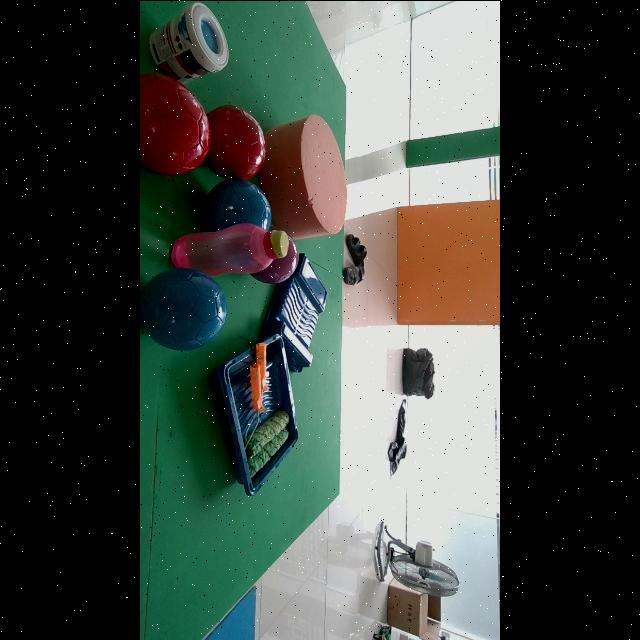B: (140, 267, 227, 349), (204, 178, 271, 230)
P: (251, 236, 298, 283)
R: (140, 73, 209, 175), (205, 104, 266, 179)
